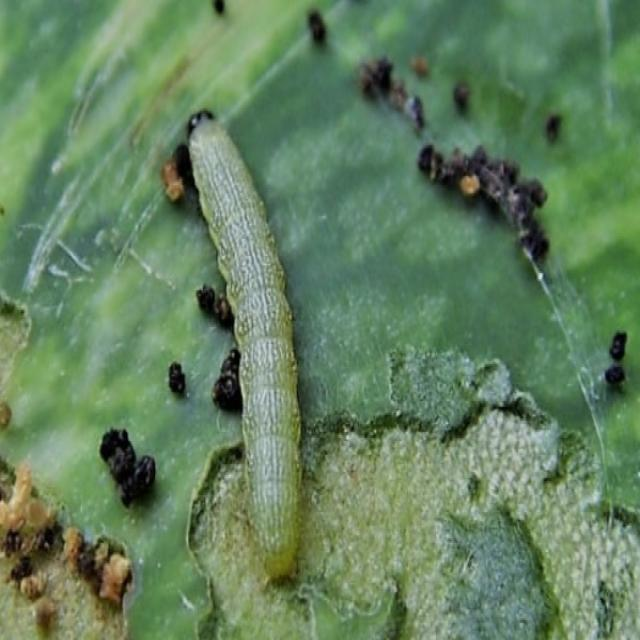Armyworm: (166, 87, 360, 602)
